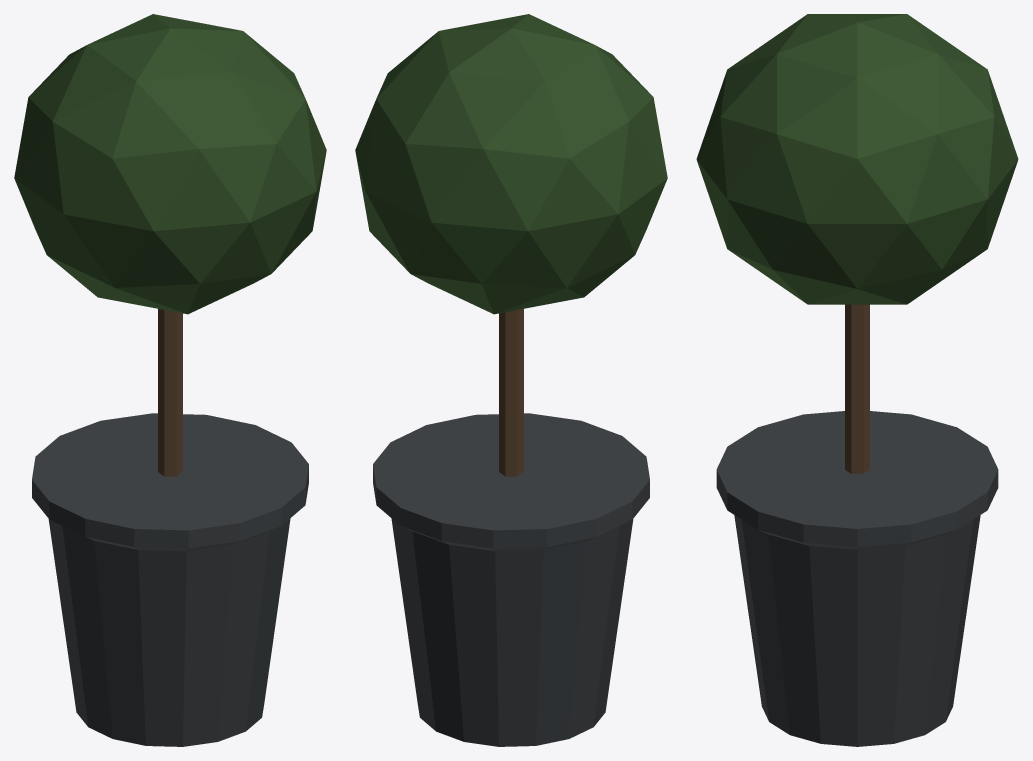
The model's file is topiary.glb.
The picture shows the model from 3 angles, left to right: view 1: azimuth 30°, elevation 25°; view 2: azimuth 150°, elevation 25°; view 3: azimuth 270°, elevation 25°; orthographic projection.
Parts seen in each view (by area): view 1: topiary; view 2: topiary; view 3: topiary.
Boxes of the visible parts, x1=… form: topiary: x1=14, y1=14, x2=326, y2=746; topiary: x1=355, y1=14, x2=667, y2=746; topiary: x1=696, y1=14, x2=1018, y2=746.
Size of the model in its own units: 0.6087 by 1.5 by 0.64.
